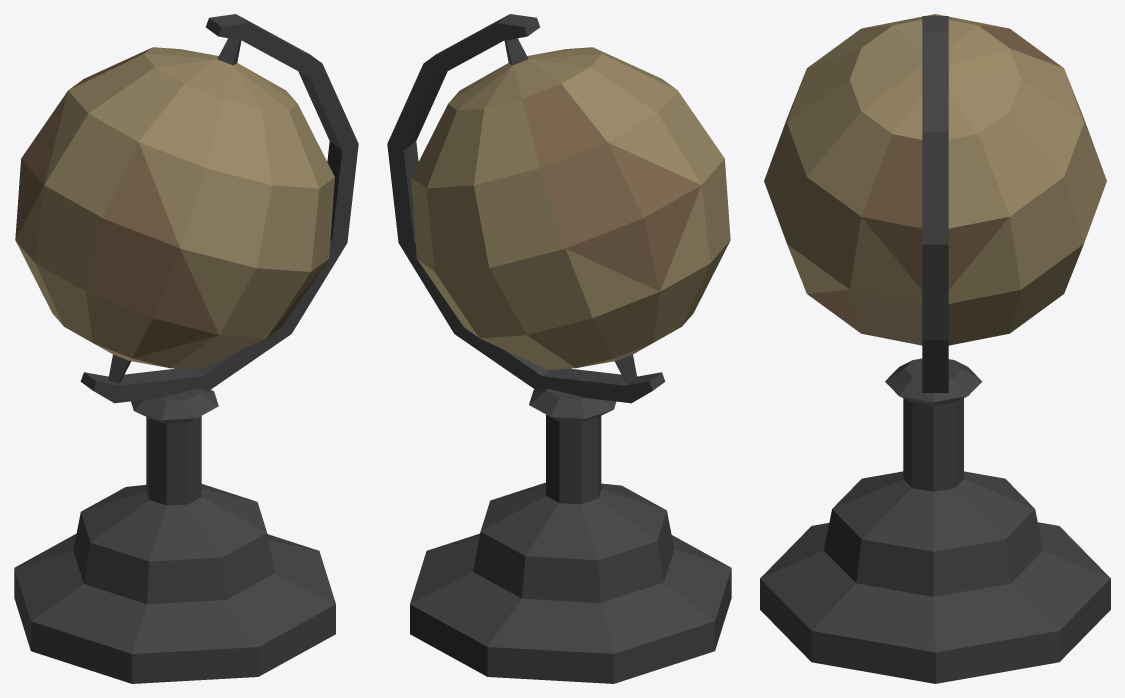
Rendered from Globe.fbx.
3 views of the same model, side by side, from view 1: azimuth 30°, elevation 25°; view 2: azimuth 150°, elevation 25°; view 3: azimuth 270°, elevation 25° (orthographic). The views are drawn at different scales.
Parts seen in each view (by area): view 1: Globe; view 2: Globe; view 3: Globe.
Boxes of the visible parts, <box> form: Globe: <box>14,14,358,683</box>; Globe: <box>387,14,731,683</box>; Globe: <box>760,14,1110,683</box>.
Bounding box in the file's own units: 0.5434 × 0.4877 × 0.9429.
